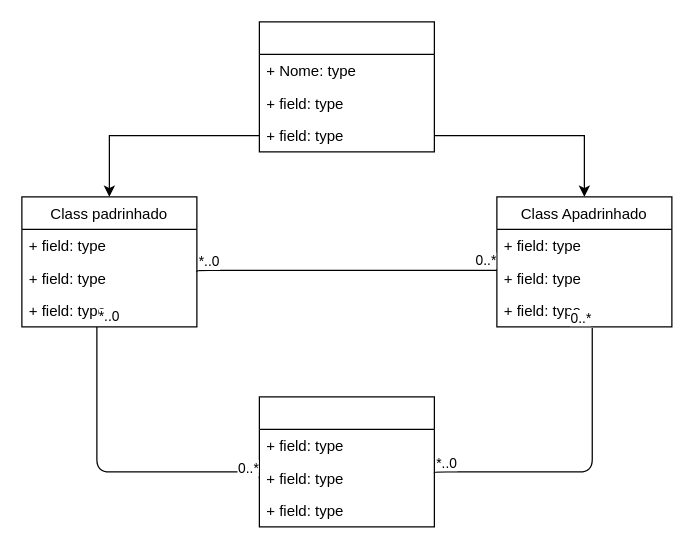
The diagram is 694 pixels wide and 553 high, and some of its shapes have lost their labels. Each missing label, with the box of its shape:
Class Chat: (258, 396, 434, 527)
Class Estudante: (258, 21, 434, 152)
